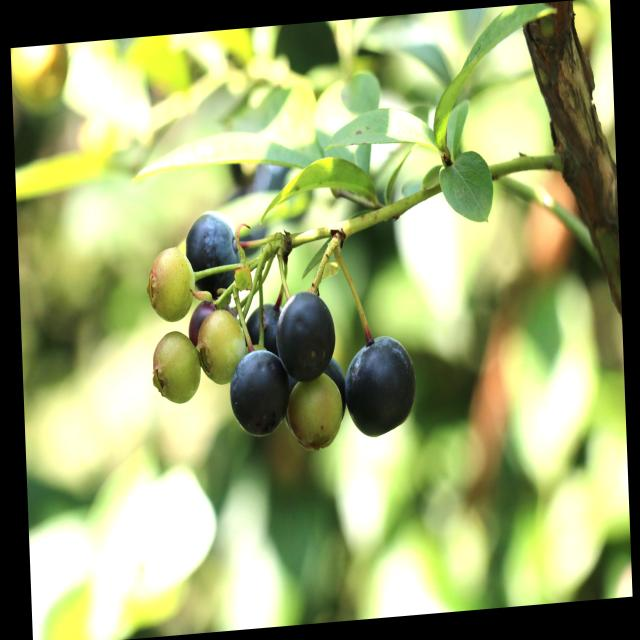blueberry: (334, 327, 423, 444), (268, 283, 339, 391), (222, 340, 293, 446), (179, 204, 247, 304), (282, 346, 351, 440), (236, 294, 288, 359)
blueberry-unripe: (148, 328, 202, 410), (288, 375, 343, 454), (146, 245, 197, 328), (193, 306, 244, 382)
